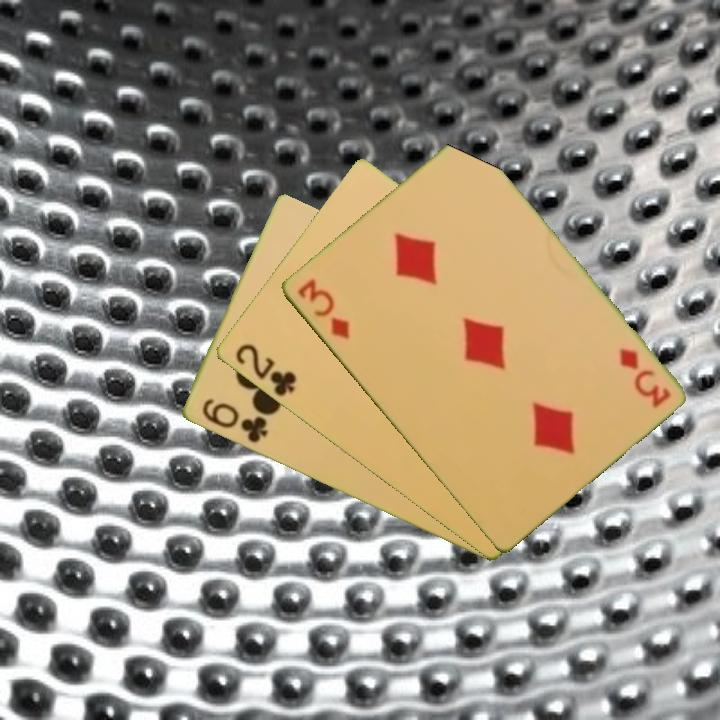2c: (231, 340, 299, 400)
3d: (293, 275, 352, 343), (614, 344, 673, 411)
6c: (197, 394, 271, 447)
